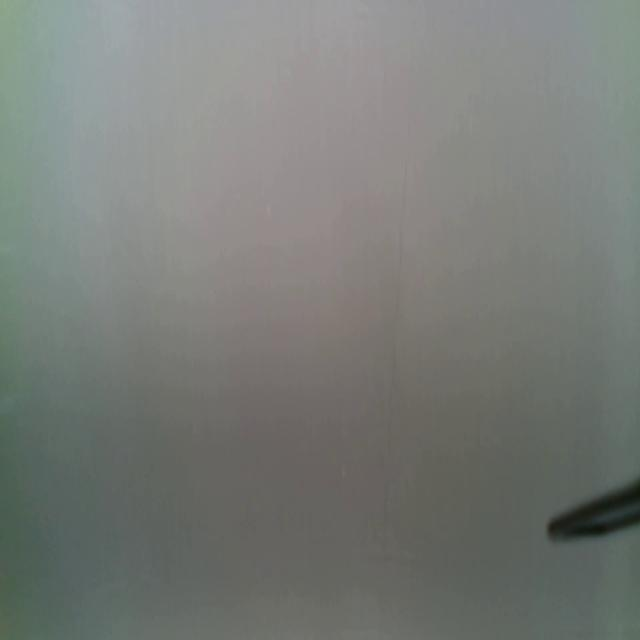crease: (378, 153, 410, 579)
